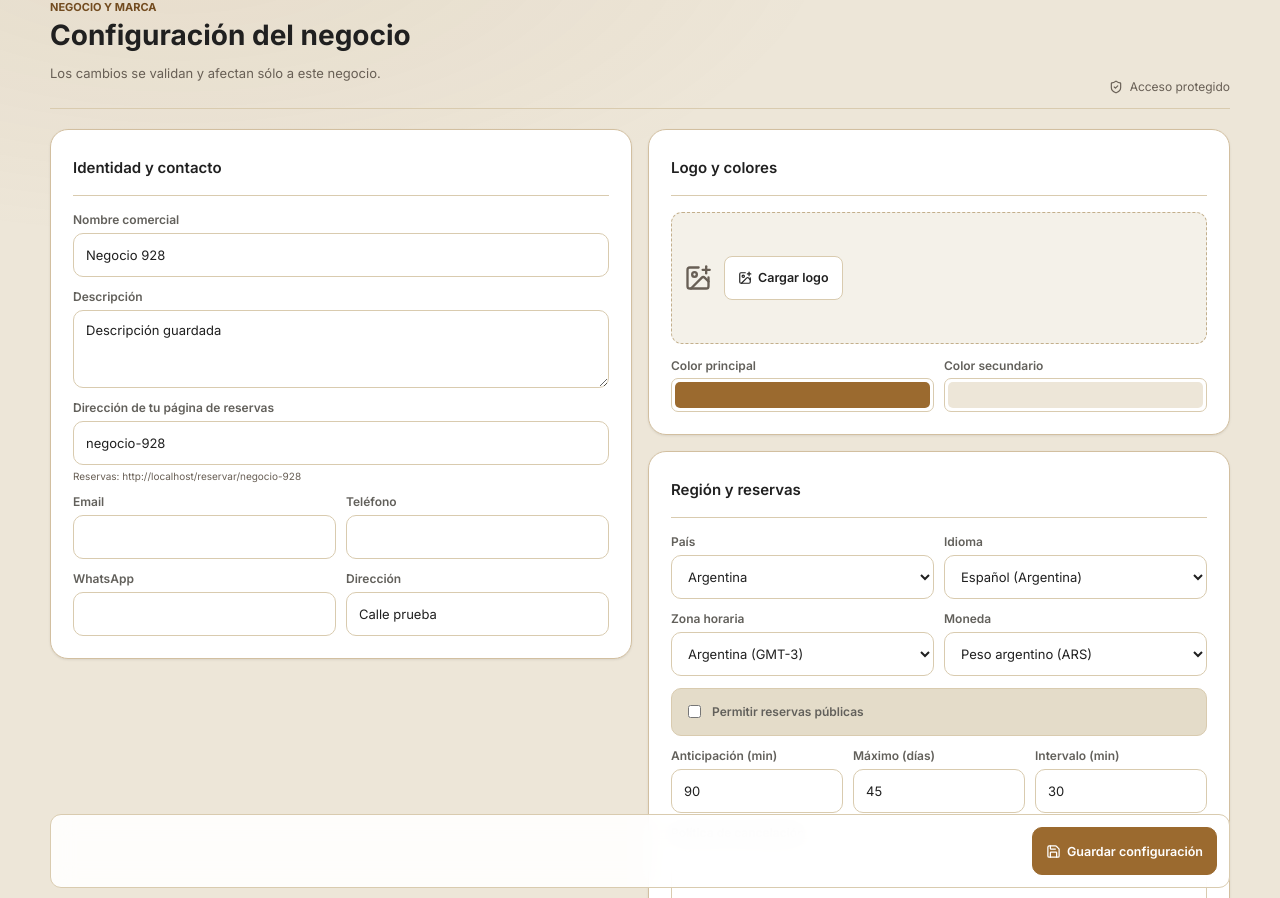
it: Configuración: lectura fallida y conservación de borradores › no deja cambiar campos ni enviar dos guardados mientras la RPC sigue pendiente
Replace the text in the field labelled "Nombre comercial" with "Nombre enviado": (341, 255) [73, 233, 609, 277]
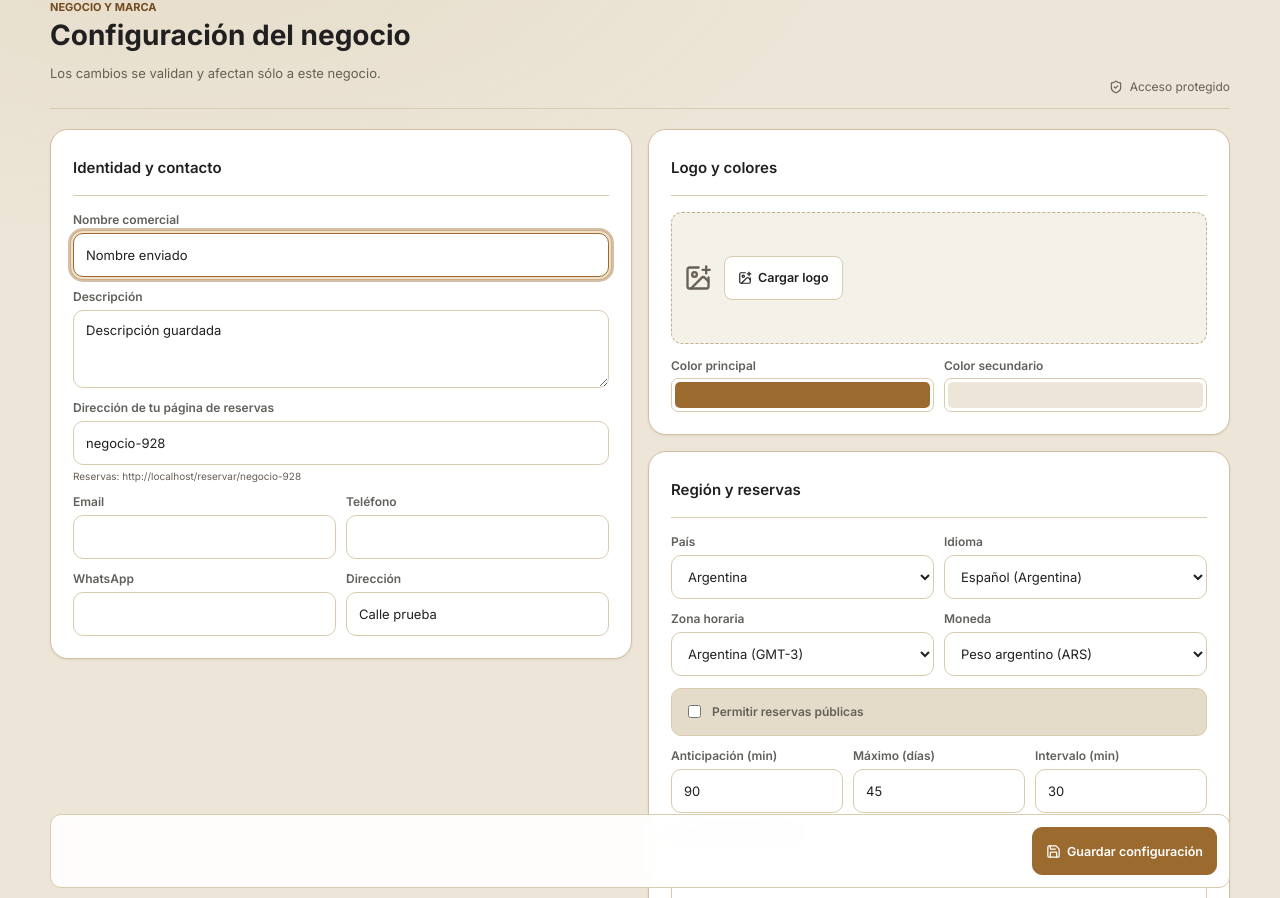
Click the button "Guardar configuración": (1124, 851) [1032, 827, 1217, 875]
(page scrolled)
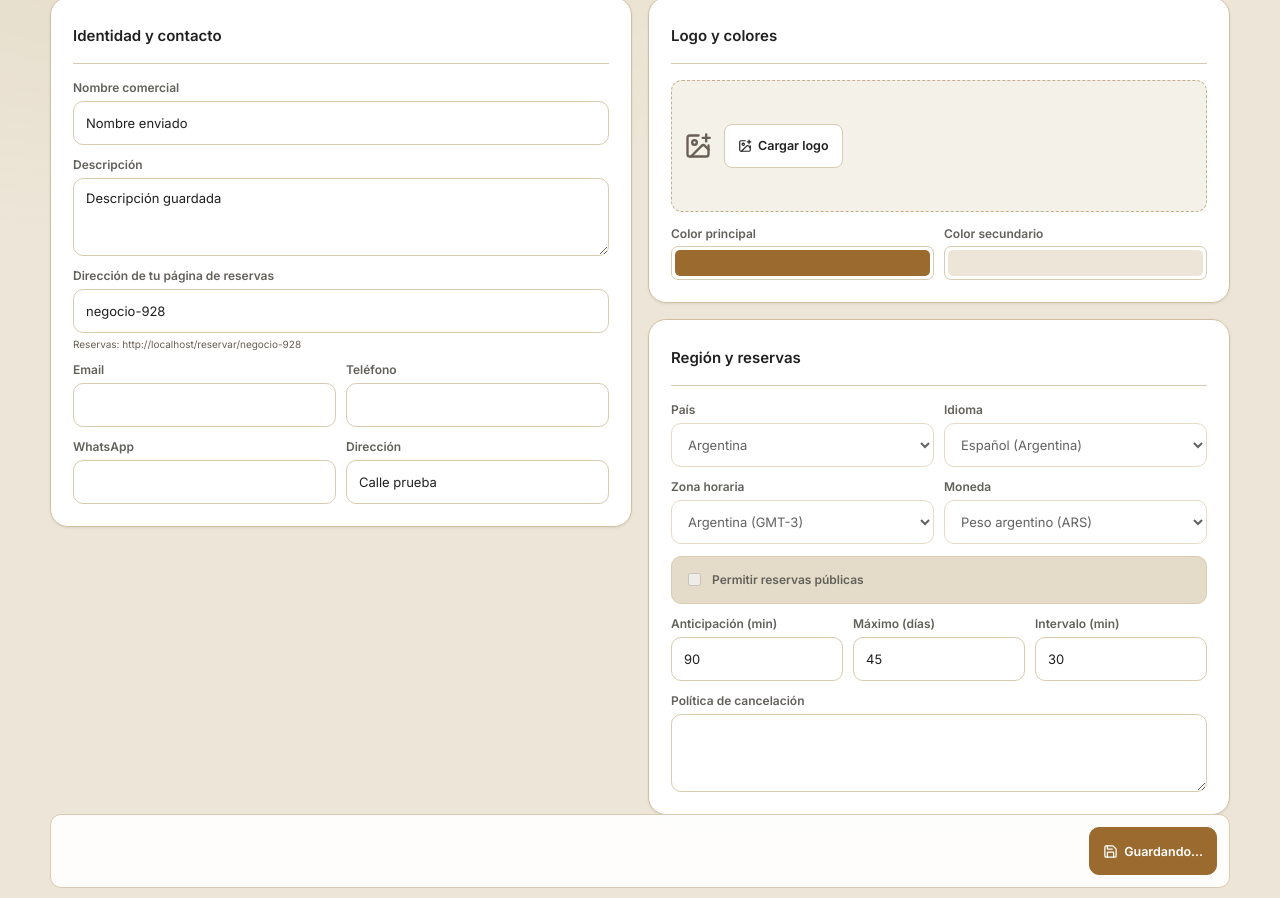
Check: the field labelled "Nombre comercial" is disabled, box [73, 101, 609, 145]
Check: the field labelled "Dirección de tu página de reservas" is disabled, box [73, 289, 609, 333]
Submit the form labelled "Nombre comercial"
(page scrolled)
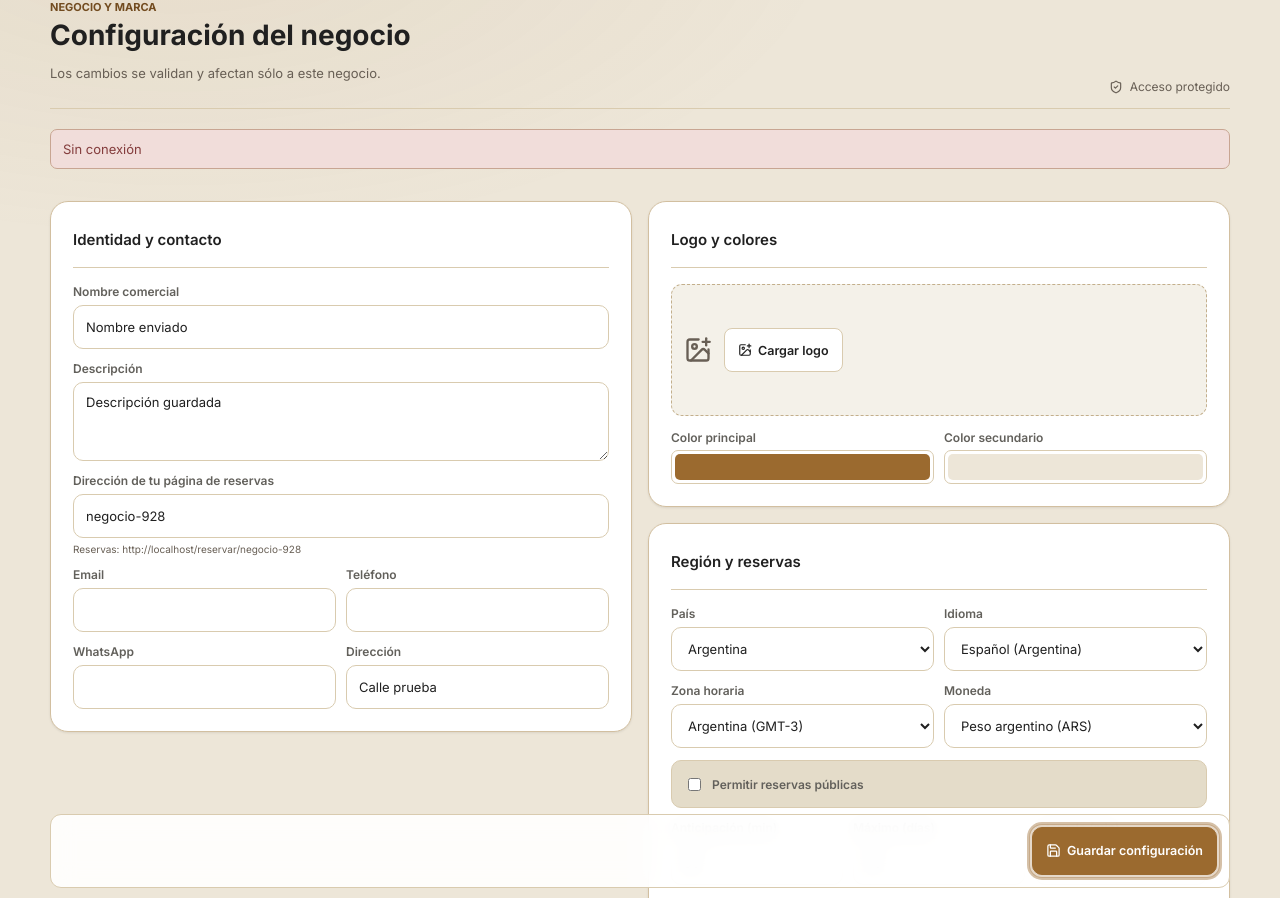
Check: the field labelled "Nombre comercial" is enabled, box [73, 305, 609, 349]
Check: the message reads "Sin conexión", box [63, 141, 142, 157]
